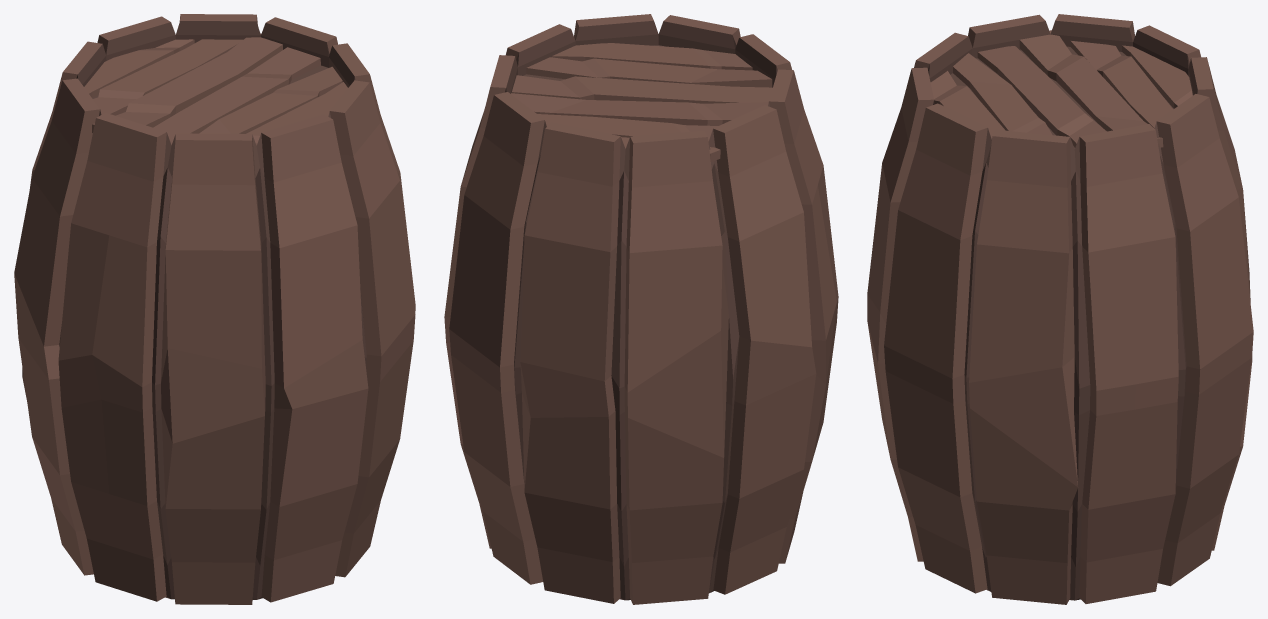
Rendered from Dungeon_Barrel2.glb.
The picture shows the model from 3 angles, left to right: view 1: azimuth 30°, elevation 25°; view 2: azimuth 150°, elevation 25°; view 3: azimuth 270°, elevation 25°; orthographic projection.
Parts seen in each view (by area): view 1: Barrel; view 2: Barrel; view 3: Barrel.
Boxes of the visible parts, x1=… form: Barrel: x1=14, y1=14, x2=415, y2=604; Barrel: x1=444, y1=14, x2=838, y2=604; Barrel: x1=867, y1=14, x2=1253, y2=604.
Size of the model in its own units: 1.03 by 1.35 by 1.02.
